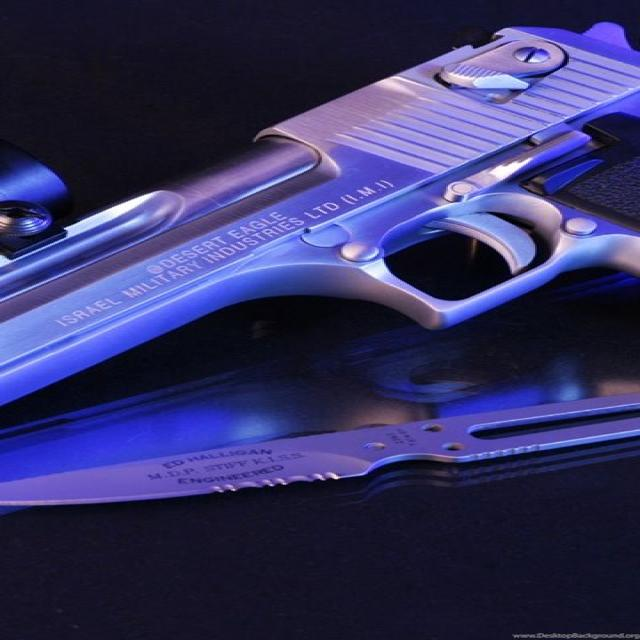handgun: (0, 19, 637, 408)
